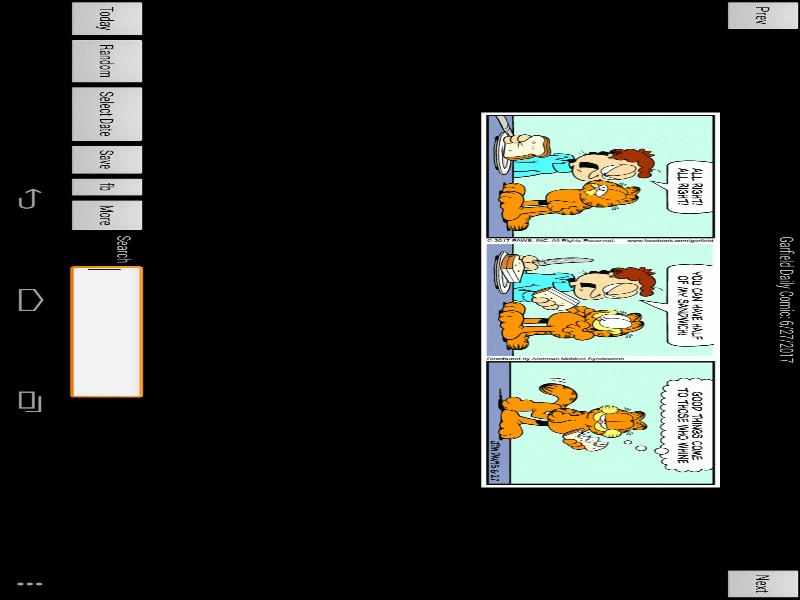Button: (181, 307, 306, 345), (80, 307, 181, 345), (0, 307, 80, 345), (422, 307, 496, 345), (306, 307, 376, 345), (0, 0, 67, 37), (376, 307, 422, 345)
